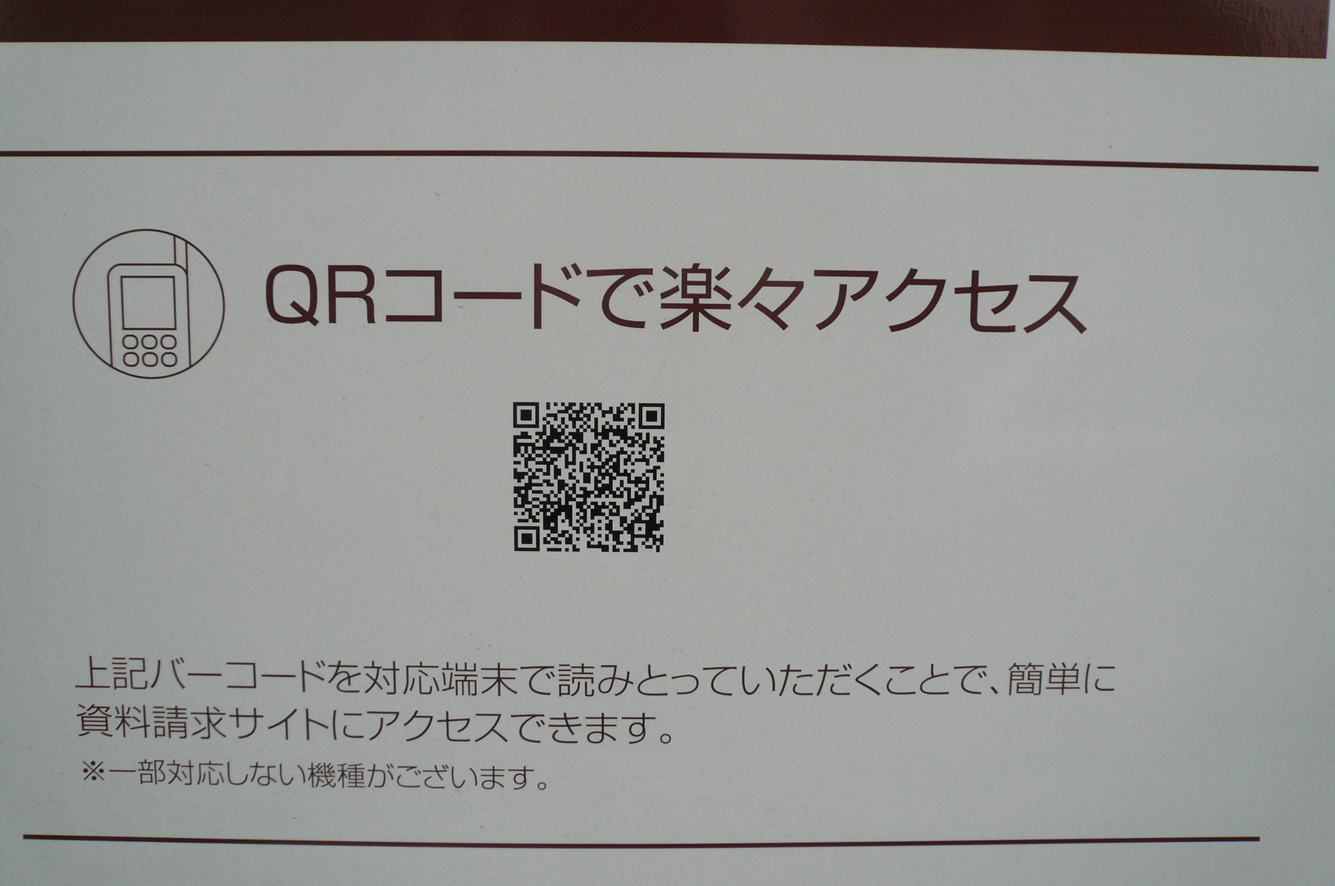QR-CODE: (513, 402, 664, 552)
